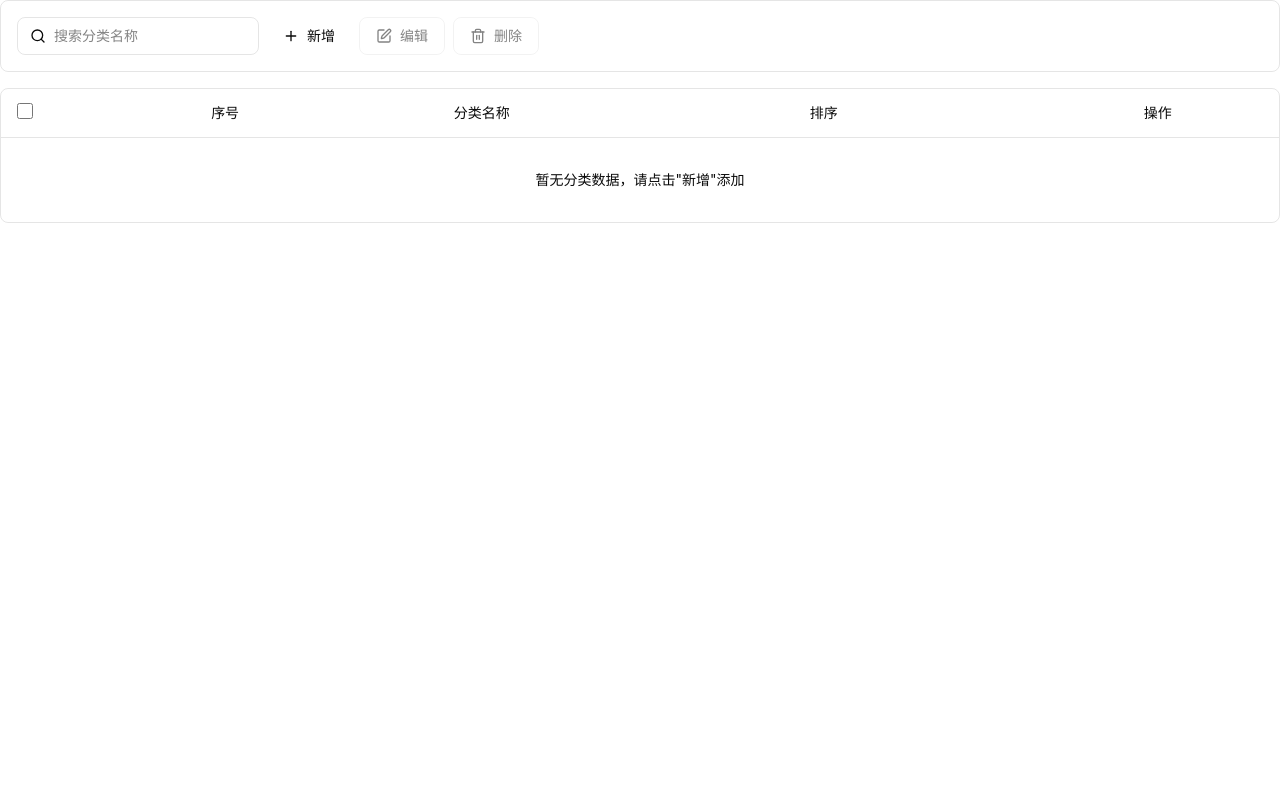
Test: 分类与列表接口回归 › creates a category from the popup and displays the refreshed server record
This screenshot has width=1280, height=800.
Expected: the text "暂无分类数据，请点击\"新增\"添加" is shown, [1,138,1279,222]
Step 1. Click the button "新增" → (309, 36), box [267,18,351,54]
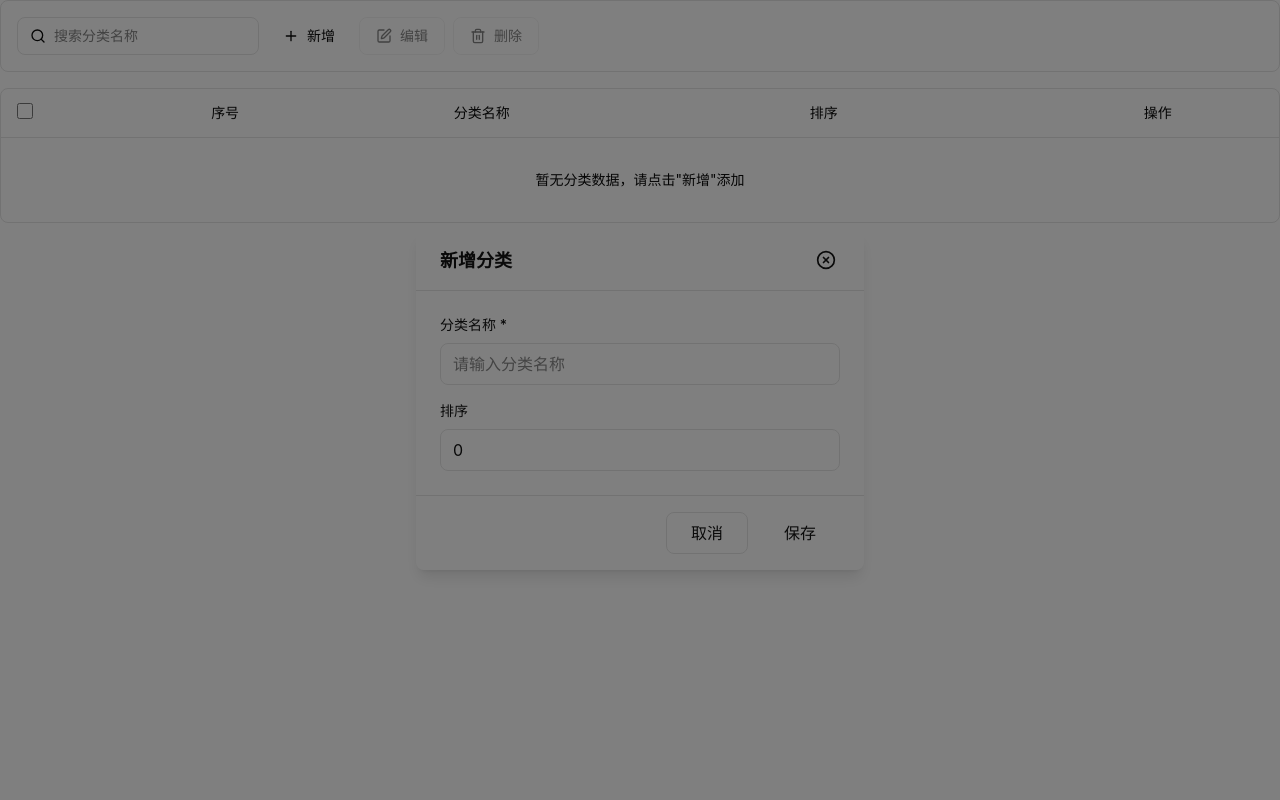
Step 2. Type "AB实际分类" into the field with placeholder "请输入分类名称" → (640, 364), box [440,343,840,385]
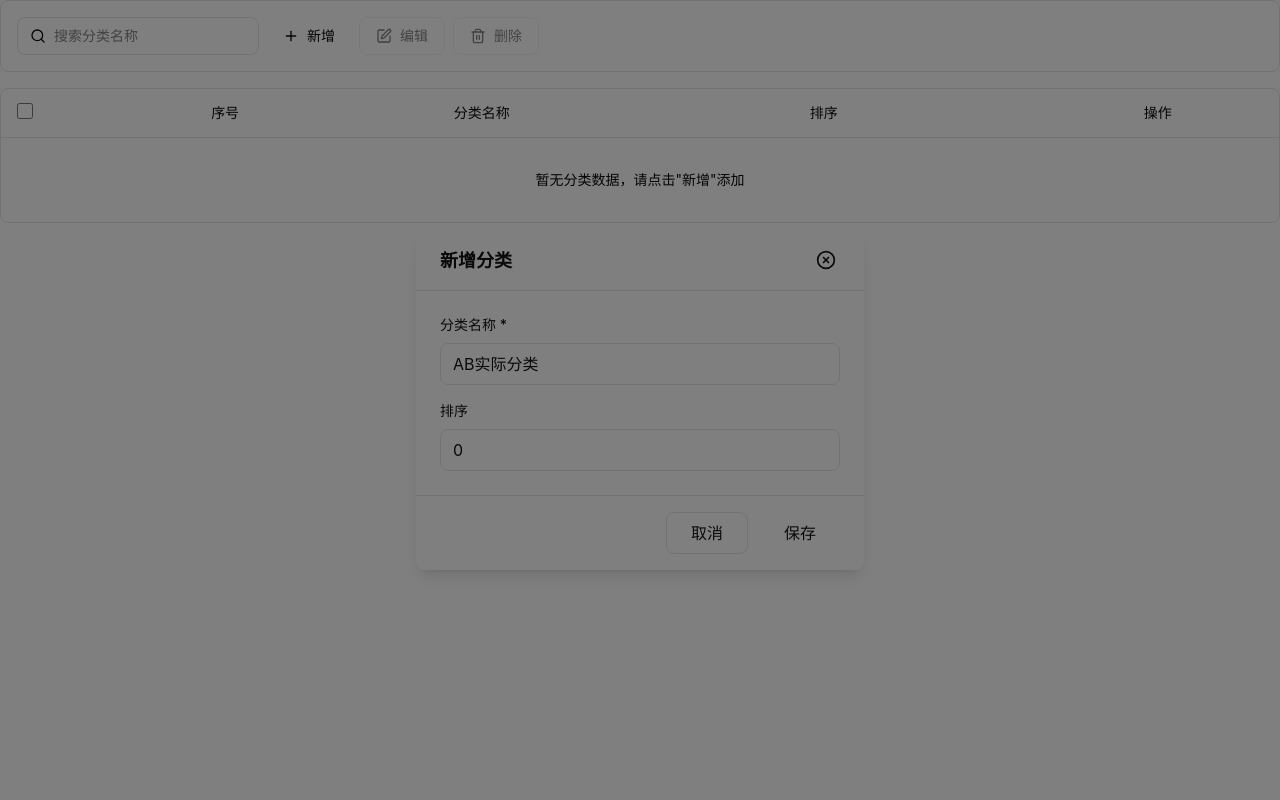
Step 3. Replace the text in the number field with placeholder "请输入排序值" with "2" → (640, 450), box [440,429,840,471]
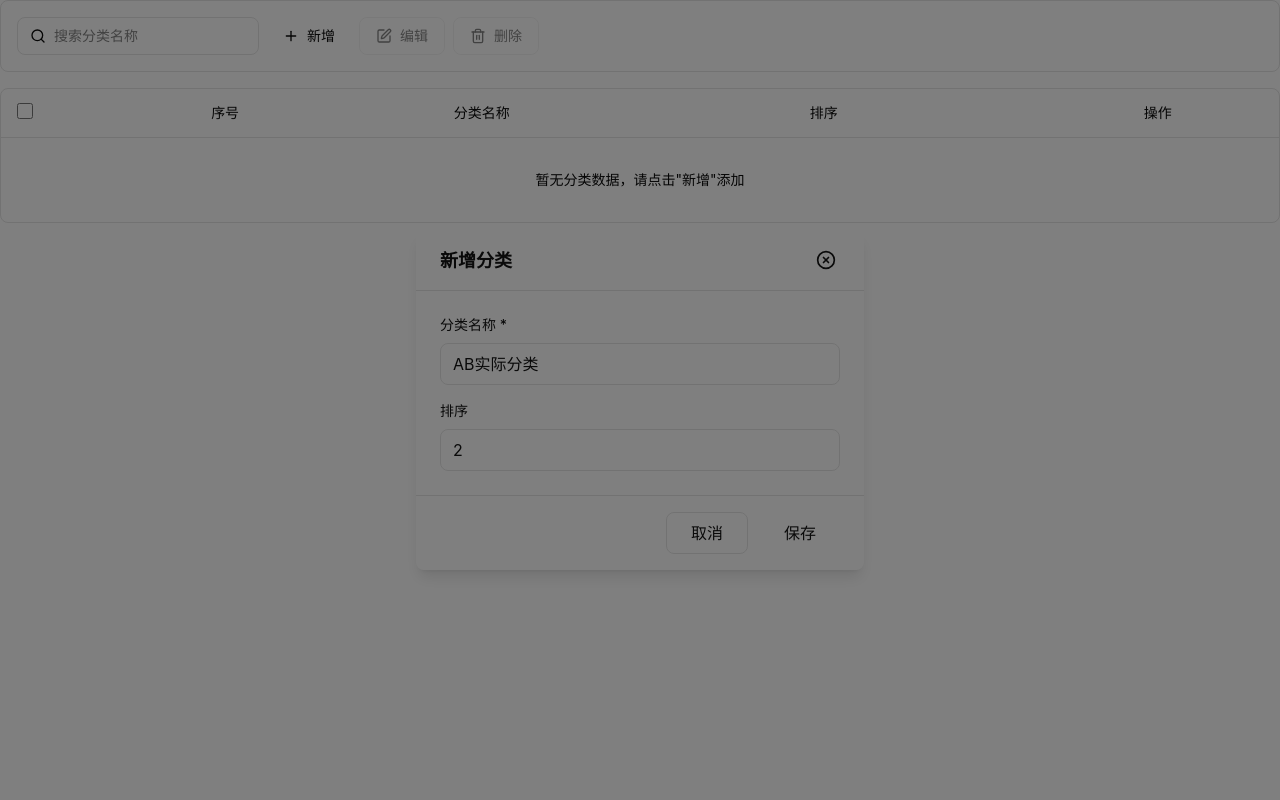
Step 4. Click the button "保存" → (800, 533), box [760,513,840,553]
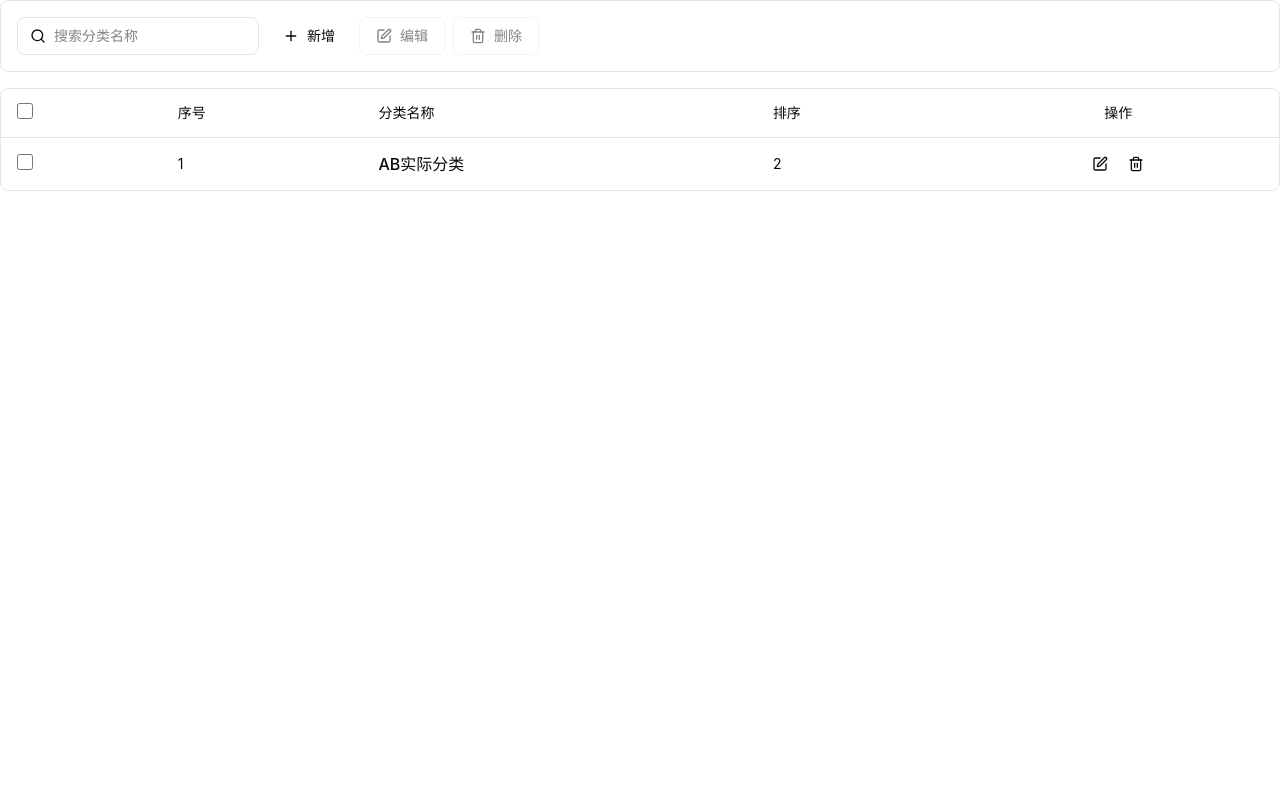
Now the text "AB实际分类" is shown, box [362,138,757,190]
